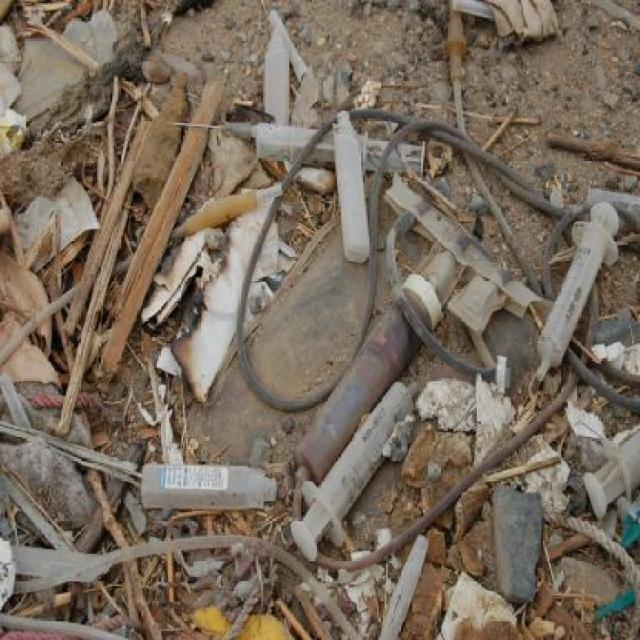garbage: (412, 371, 566, 504), (125, 458, 289, 526)
